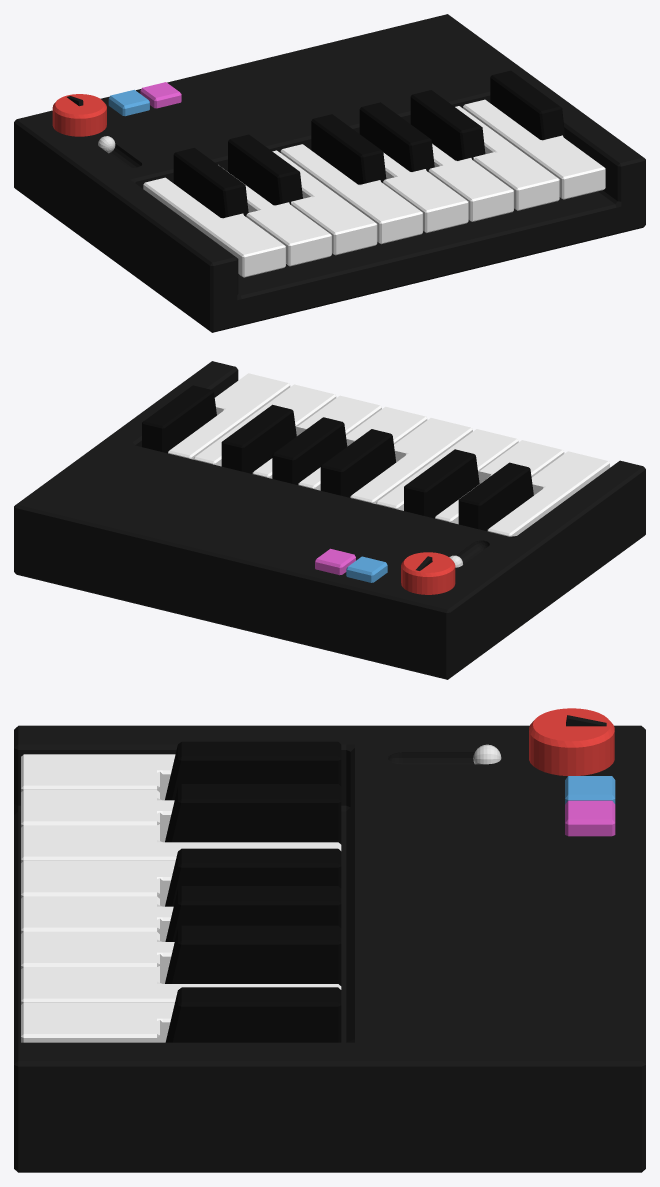
File: 3D-synth-1g.gltf
3 views of the same model, one above another, from view 1: azimuth 30°, elevation 25°; view 2: azimuth 150°, elevation 25°; view 3: azimuth 270°, elevation 25° (orthographic). The views are drawn at different scales.
Parts seen in each view (by area): view 1: cabinet, Key@0-C3, Key@12-C4, Key@5-F3, Key@11-B3, Key@4-E3, Key@2-D3, Key@3-Eb3, Key@6-Gb3, Key@7-G3, Key@10-Bb3, Key@1-Db3 (+6 smaller); view 2: cabinet, Key@0-C3, Key@5-F3, Key@12-C4, Key@3-Eb3, Key@6-Gb3, Key@10-Bb3, Key@1-Db3, Key@13-Db4, Key@8-Ab3, Key@11-B3, Key@4-E3 (+6 smaller); view 3: cabinet, Key@3-Eb3, Key@10-Bb3, Key@13-Db4, Key@1-Db3, Key@8-Ab3, Key@6-Gb3, Key@4-E3, Key@12-C4, Key@11-B3, Key@0-C3, Key@5-F3 (+6 smaller).
Part boxes in pixels (x1,y1,x2,y2): cabinet: [14, 14, 645, 332]; Key@0-C3: [143, 177, 285, 277]; Key@12-C4: [463, 99, 605, 199]; Key@5-F3: [280, 144, 422, 244]; Key@11-B3: [455, 106, 559, 210]; Key@4-E3: [272, 150, 377, 255]; Key@2-D3: [218, 165, 331, 266]; Key@3-Eb3: [228, 134, 302, 205]; Key@6-Gb3: [311, 114, 386, 184]; Key@7-G3: [383, 152, 468, 232]; Key@10-Bb3: [410, 90, 485, 160]; Key@1-Db3: [173, 148, 248, 218]; cabinet: [14, 361, 645, 679]; Key@0-C3: [487, 451, 609, 536]; Key@5-F3: [350, 418, 472, 503]; Key@12-C4: [168, 373, 290, 459]; Key@3-Eb3: [404, 449, 479, 518]; Key@6-Gb3: [320, 429, 396, 497]; Key@10-Bb3: [221, 404, 296, 473]; Key@1-Db3: [458, 462, 533, 531]; Key@13-Db4: [142, 385, 216, 453]; Key@8-Ab3: [272, 417, 347, 484]; Key@11-B3: [193, 384, 336, 466]; Key@4-E3: [376, 429, 518, 510]; cabinet: [14, 725, 645, 1172]; Key@3-Eb3: [165, 784, 341, 844]; Key@10-Bb3: [165, 925, 341, 985]; Key@13-Db4: [165, 987, 341, 1042]; Key@1-Db3: [165, 741, 341, 800]; Key@8-Ab3: [165, 886, 341, 941]; Key@6-Gb3: [165, 848, 341, 906]; Key@4-E3: [21, 824, 341, 862]; Key@12-C4: [21, 1002, 174, 1042]; Key@11-B3: [21, 966, 341, 1004]; Key@0-C3: [21, 754, 175, 800]; Key@5-F3: [21, 861, 175, 906].
Size of what is drawn, in the model's own units: 2 by 0.4208 by 1.58.
